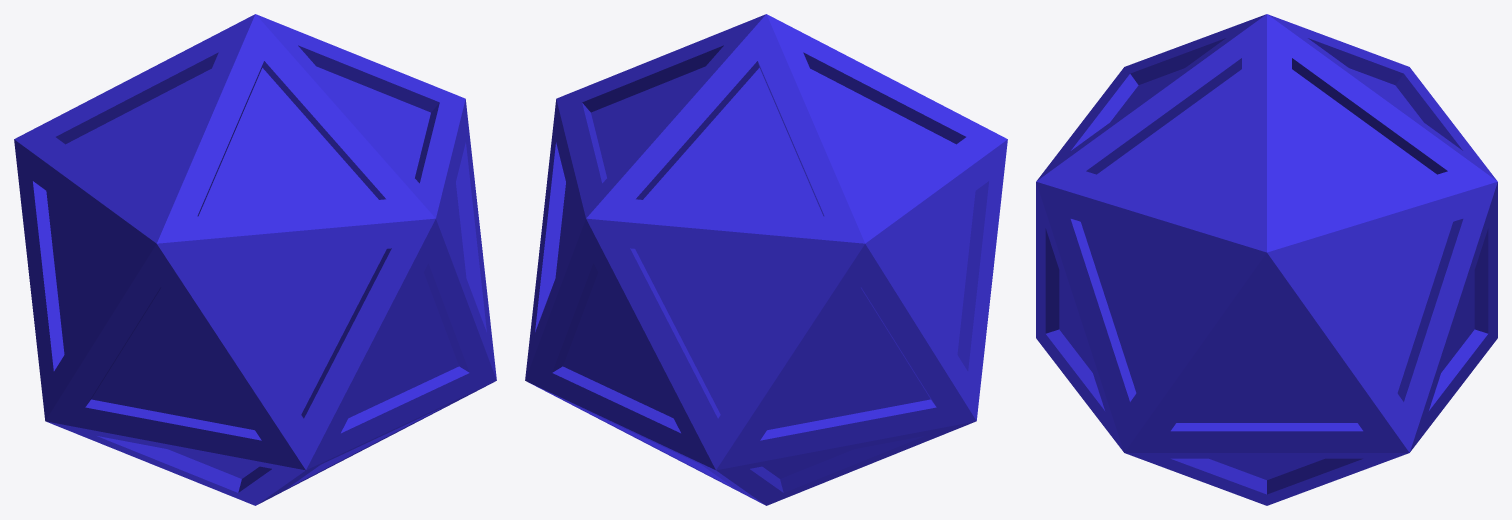
The picture shows the model from 3 angles, left to right: view 1: azimuth 30°, elevation 25°; view 2: azimuth 150°, elevation 25°; view 3: azimuth 270°, elevation 25°; orthographic projection.
Parts seen in each view (by area): view 1: Icosphere; view 2: Icosphere; view 3: Icosphere.
Part boxes in pixels (box(x1,y1,x2,y2)): Icosphere: box(14, 14, 496, 505); Icosphere: box(525, 14, 1007, 505); Icosphere: box(1036, 14, 1497, 505).
Bounding box in the file's own units: 1.79 × 1.7 × 2.
